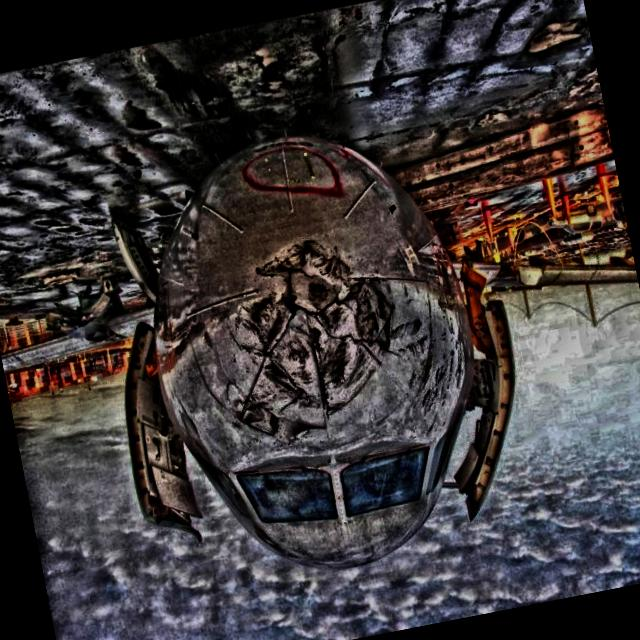crack: (207, 220, 419, 452)
